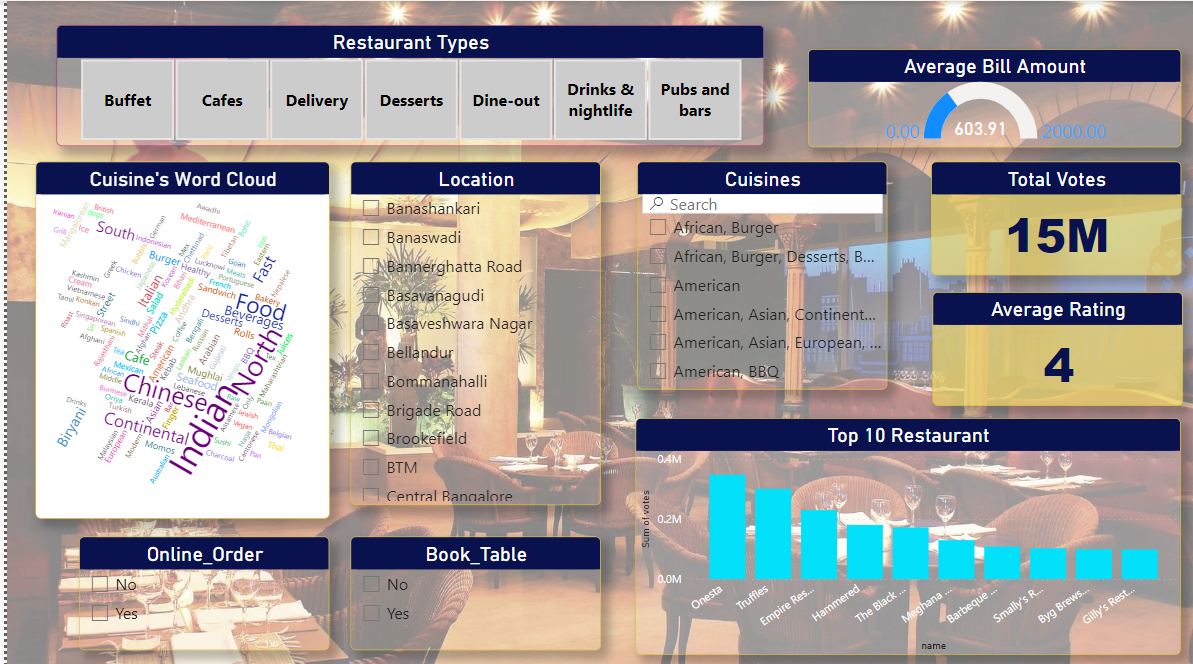

The dashboard page shown, as its layout file describes it:
{"tool":"powerbi","page":{"name":"Analytics Dashboard","canvas":[1280,720],"ordinal":0},"visuals":[{"type":"slicer","title":"Restaurant Types","fields":{"Values":["zomato.listed_in(type)"]},"box":[52.9,26.5,763.5,130.4],"z":0},{"type":"gauge","title":"Average Bill Amount","fields":{"Y":["Avg(zomato.approx_cost(for two people))"]},"box":[863.6,51,402.5,105.8],"z":1000},{"type":"card","title":"Total Votes","fields":{"Values":["Sum(zomato.votes)"]},"box":[995.9,173.9,270.2,122.8],"z":2000},{"type":"card","title":"Average Rating","fields":{"Values":["Avg(zomato.rate)"]},"box":[997.8,313.7,270.2,122.8],"z":3000},{"type":"columnChart","title":"Top 10 Restaurant","fields":{"Category":["zomato.name"],"Y":["Sum(zomato.votes)"]},"box":[678.4,449.8,587.7,255.1],"z":4000},{"type":"slicer","title":"Online_Order","fields":{"Values":["zomato.online_order"]},"box":[77.5,578.3,270.2,122.8],"z":5000},{"type":"slicer","title":"Book_Table","fields":{"Values":["zomato.book_table"]},"box":[370.4,578.3,270.2,122.8],"z":6000},{"type":"slicer","title":"Location","fields":{"Values":["zomato.location"]},"box":[370.4,173.9,270.2,370.4],"z":7000},{"type":"slicer","title":"Cuisines","fields":{"Values":["zomato.cuisines"]},"box":[680.3,173.9,270.2,245.7],"z":8000},{"type":"WordCloud1447959067750","title":"Cuisine''s Word Cloud","fields":{"Category":["zomato.cuisines"]},"box":[30.2,173.9,317.5,385.5],"z":9000}]}

Visuals, with their boxes in screenshot pixels (x1, y1, x2, y2), scaled from the page's 1280x720 canvas onto the 1193x664 screenshot:
"Restaurant Types" slicer: 49:24:761:145
"Average Bill Amount" gauge: 805:47:1180:145
"Total Votes" card: 928:160:1180:274
"Average Rating" card: 930:289:1182:403
"Top 10 Restaurant" columnChart: 632:415:1180:650
"Online_Order" slicer: 72:533:324:647
"Book_Table" slicer: 345:533:597:647
"Location" slicer: 345:160:597:502
"Cuisines" slicer: 634:160:886:387
"Cuisine''s Word Cloud" WordCloud1447959067750: 28:160:324:516
